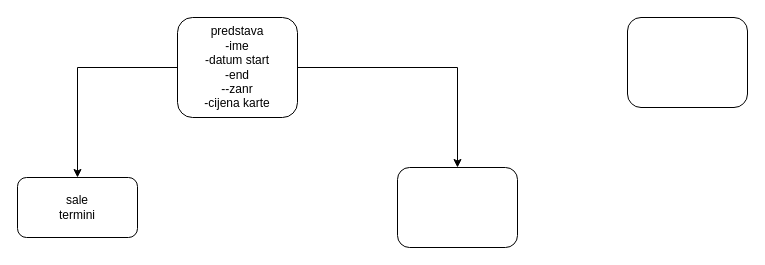
The diagram is 765 pixels wide and 265 high, and some of its shapes have lost their labels. The shapes that lost their labels are listed below. From the top down, each one's box as (x1, y1, x2, y2) in pixels, then its label:
(626, 16, 748, 108): sala -br sjedista -
(396, 166, 518, 248): glumci u predstavi -niz glumaca
